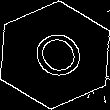O_SE: (21, 23, 89, 87)
